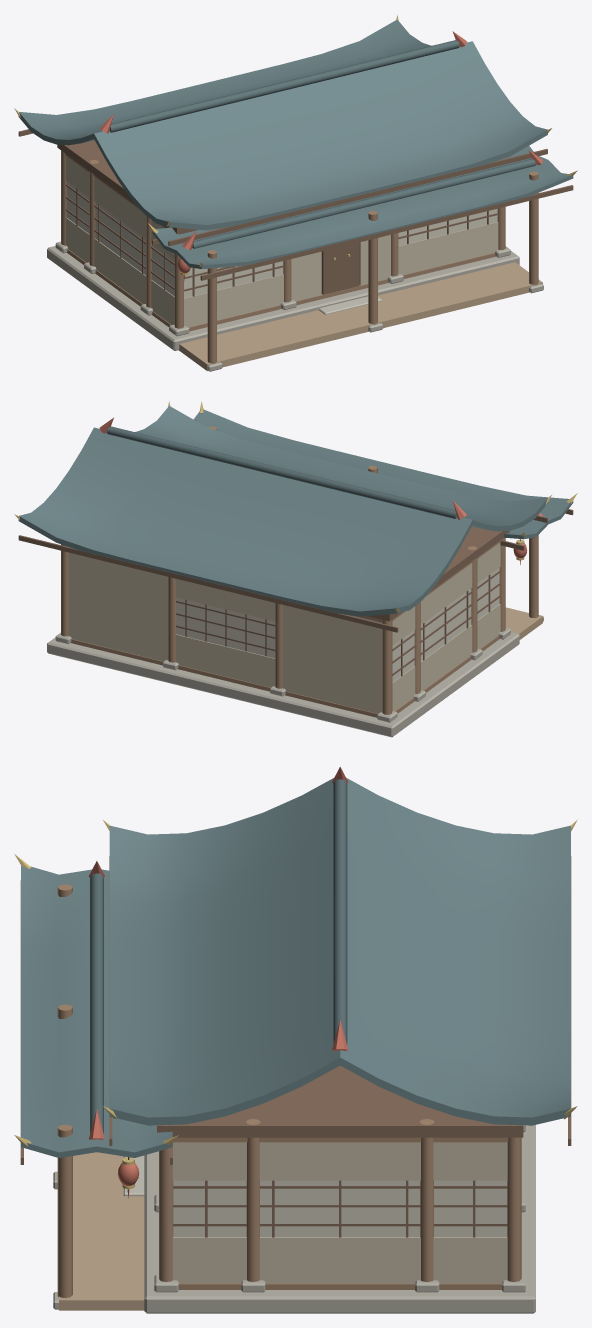
The model's file is house_long.glb.
The picture shows the model from 3 angles, top to bottom: view 1: azimuth 30°, elevation 25°; view 2: azimuth 150°, elevation 25°; view 3: azimuth 270°, elevation 25°; orthographic projection. The views are drawn at different scales.
Visible parts, largest first — view 1: HouseLong; view 2: HouseLong; view 3: HouseLong.
Boxes of the visible parts, x1,y1,x2,y2 form: HouseLong: (14,14,577,371); HouseLong: (14,401,577,737); HouseLong: (14,767,577,1313).
Size of what is drawn, in the model's own units: 10.73 by 5.18 by 8.92.
